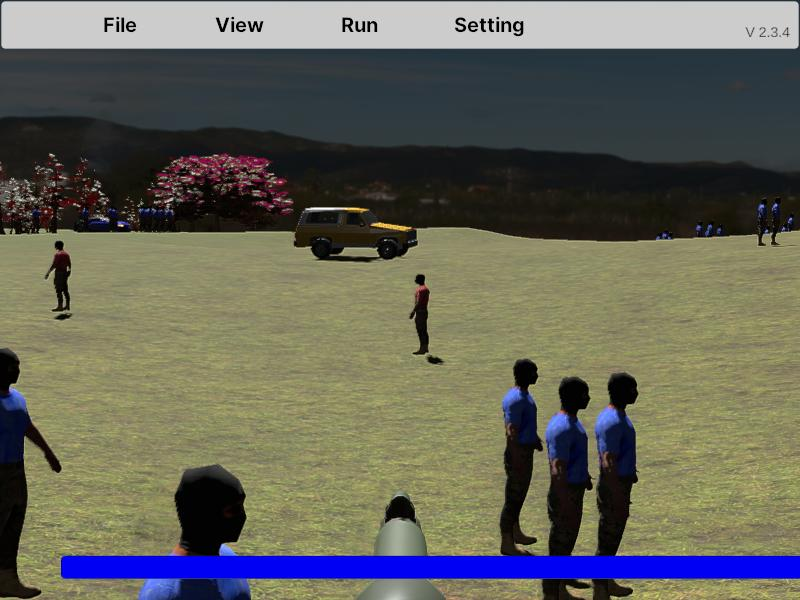Human: (113, 459, 260, 600), (0, 342, 62, 599), (544, 374, 595, 597), (593, 370, 639, 597), (501, 359, 548, 560), (46, 239, 71, 312), (410, 273, 429, 355)
car: (293, 207, 417, 261)
